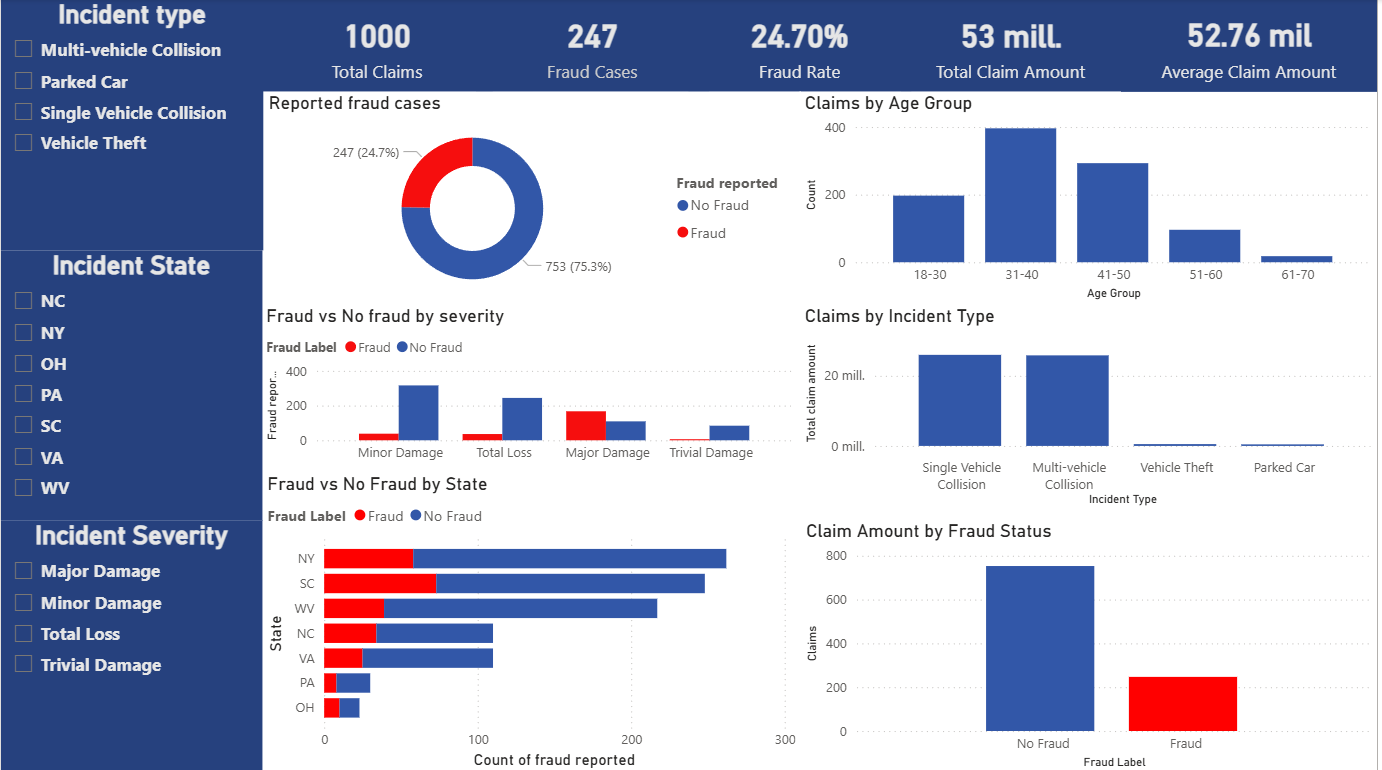

The dashboard page shown, as its layout file describes it:
{"tool":"powerbi","page":{"name":"Página 1","canvas":[1280,720],"ordinal":0},"visuals":[{"type":"card","fields":{"Values":["insurance_fraud_dashboard_dataset.Total claims"]},"box":[242.9,0,214.1,86.4],"z":0},{"type":"card","fields":{"Values":["insurance_fraud_dashboard_dataset.FRAUD CASES"]},"box":[441.9,0,216.8,86.4],"z":1000},{"type":"card","fields":{"Values":["insurance_fraud_dashboard_dataset.Fraud Rate"]},"box":[639.5,0,207.2,86.4],"z":2000},{"type":"card","fields":{"Values":["insurance_fraud_dashboard_dataset.Total Claim Amount"]},"box":[837.1,0,204.5,86.4],"z":3000},{"type":"columnChart","title":"Claims by Age Group","fields":{"Category":["insurance_fraud_dashboard_dataset.age_group"],"Y":["CountNonNull(insurance_fraud_dashboard_dataset.age_group)"]},"box":[743,86,537.2,198.8],"z":4000},{"type":"donutChart","title":"Reported fraud cases","fields":{"Category":["insurance_fraud_dashboard_dataset.Fraud Label"],"Y":["CountNonNull(insurance_fraud_dashboard_dataset.Fraud Label)"]},"box":[244.2,86,500,198.8],"z":5000},{"type":"clusteredColumnChart","title":"Fraud vs No fraud by severity","fields":{"Category":["insurance_fraud_dashboard_dataset.incident_severity"],"Y":["CountNonNull(insurance_fraud_dashboard_dataset.Fraud Label)"],"Series":["insurance_fraud_dashboard_dataset.Fraud Label"]},"box":[241.9,284.9,501.2,155.8],"z":6000},{"type":"barChart","title":"Fraud vs No Fraud by State","fields":{"Category":["insurance_fraud_dashboard_dataset.incident_state"],"Series":["insurance_fraud_dashboard_dataset.Fraud Label"],"Y":["CountNonNull(insurance_fraud_dashboard_dataset.Fraud Label)"]},"box":[243,440.7,501.2,280.2],"z":7000},{"type":"clusteredColumnChart","title":"Claim Amount by Fraud Status","fields":{"Y":["CountNonNull(insurance_fraud_dashboard_dataset.Fraud Reported)"],"Category":["insurance_fraud_dashboard_dataset.Fraud Label"]},"box":[744.2,484.9,536,236],"z":8000},{"type":"clusteredColumnChart","title":"Claims by Incident Type","fields":{"Category":["insurance_fraud_dashboard_dataset.incident_type"],"Y":["Sum(insurance_fraud_dashboard_dataset.total_claim_amount)"]},"box":[743,284.9,536,191.9],"z":9000},{"type":"slicer","title":"Incident type","fields":{"Values":["insurance_fraud_dashboard_dataset.incident_type"]},"box":[0,0,244.3,233.3],"z":10000},{"type":"card","fields":{"Values":["insurance_fraud_dashboard_dataset.Average Claim Amount"]},"box":[1041.9,0,238.4,86],"z":11000},{"type":"slicer","title":"Incident State","fields":{"Values":["insurance_fraud_dashboard_dataset.incident_state"]},"box":[0,233.3,242.9,251.1],"z":12000},{"type":"slicer","title":"Incident Severity","fields":{"Values":["insurance_fraud_dashboard_dataset.incident_severity"]},"box":[0,484.4,242.9,236],"z":13000}]}

Visuals, with their boxes in screenshot pixels (x1, y1, x2, y2), scaled from the page's 1280x720 canvas onto the 1382x770 screenshot:
card - insurance_fraud_dashboard_dataset.Total claims: locate(262, 0, 493, 92)
card - insurance_fraud_dashboard_dataset.FRAUD CASES: locate(477, 0, 711, 92)
card - insurance_fraud_dashboard_dataset.Fraud Rate: locate(690, 0, 914, 92)
card - insurance_fraud_dashboard_dataset.Total Claim Amount: locate(904, 0, 1125, 92)
"Claims by Age Group" columnChart: locate(802, 92, 1381, 305)
"Reported fraud cases" donutChart: locate(264, 92, 804, 305)
"Fraud vs No fraud by severity" clusteredColumnChart: locate(261, 305, 802, 471)
"Fraud vs No Fraud by State" barChart: locate(262, 471, 804, 769)
"Claim Amount by Fraud Status" clusteredColumnChart: locate(804, 519, 1381, 769)
"Claims by Incident Type" clusteredColumnChart: locate(802, 305, 1381, 510)
"Incident type" slicer: locate(0, 0, 264, 250)
card - insurance_fraud_dashboard_dataset.Average Claim Amount: locate(1125, 0, 1381, 92)
"Incident State" slicer: locate(0, 250, 262, 518)
"Incident Severity" slicer: locate(0, 518, 262, 769)
